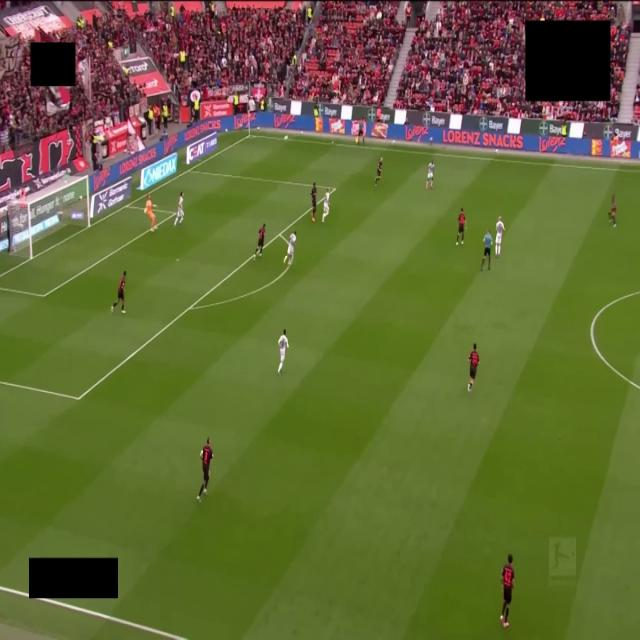ball: (284, 135, 288, 140)
player: (500, 554, 514, 627), (197, 438, 212, 501), (111, 272, 126, 313), (468, 344, 479, 391), (278, 329, 288, 375), (284, 232, 296, 266), (145, 196, 156, 231), (254, 224, 265, 259), (495, 216, 504, 256), (456, 208, 465, 245), (174, 192, 183, 226), (322, 190, 330, 223), (311, 182, 317, 222), (609, 194, 616, 227), (426, 161, 434, 189), (375, 157, 382, 186)
referee: (481, 230, 492, 271)
